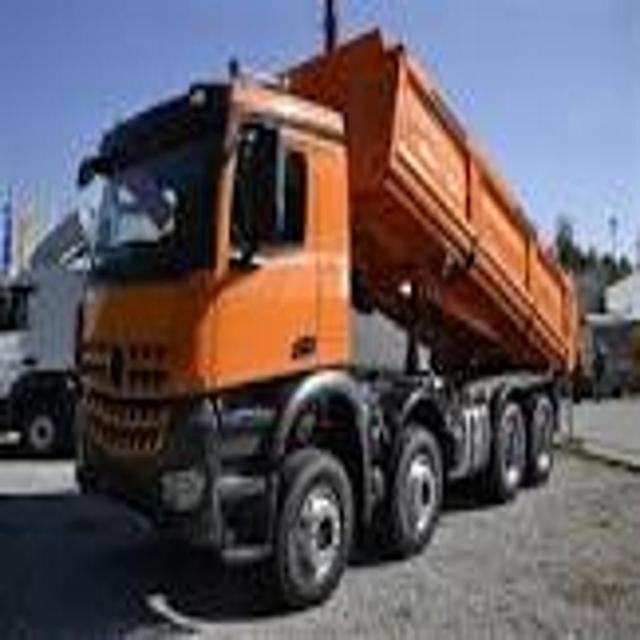dump_truck: (70, 21, 586, 614)
